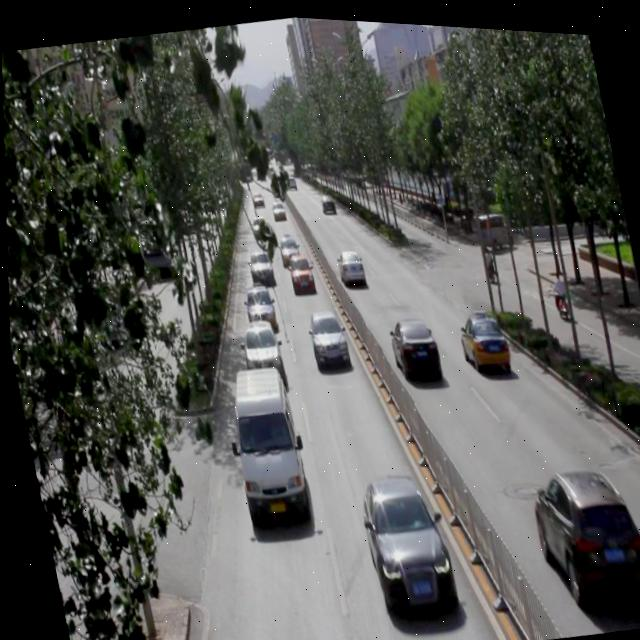car: (522, 449, 640, 611), (350, 457, 453, 613), (452, 302, 511, 376), (385, 308, 439, 382), (301, 302, 348, 369), (235, 314, 282, 381), (239, 280, 274, 329), (283, 245, 313, 292), (332, 241, 363, 283), (244, 243, 273, 284), (276, 228, 298, 264), (248, 211, 269, 239), (214, 632, 285, 640)
truck: (219, 356, 309, 518)
